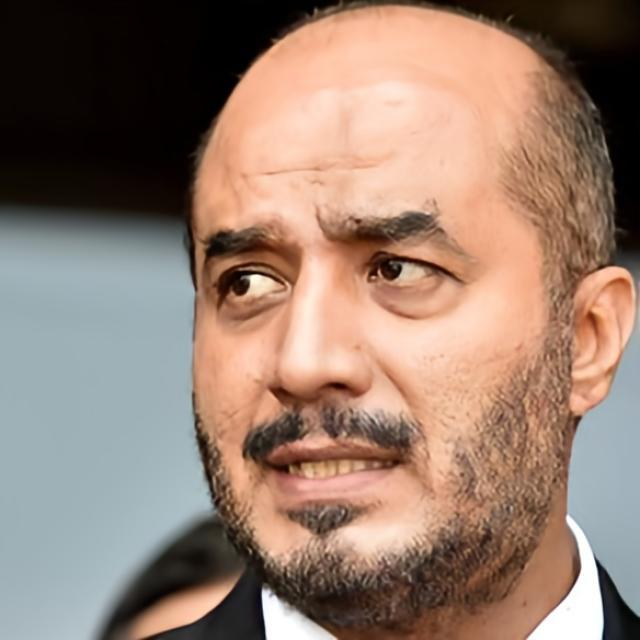anger: (178, 74, 568, 615)
